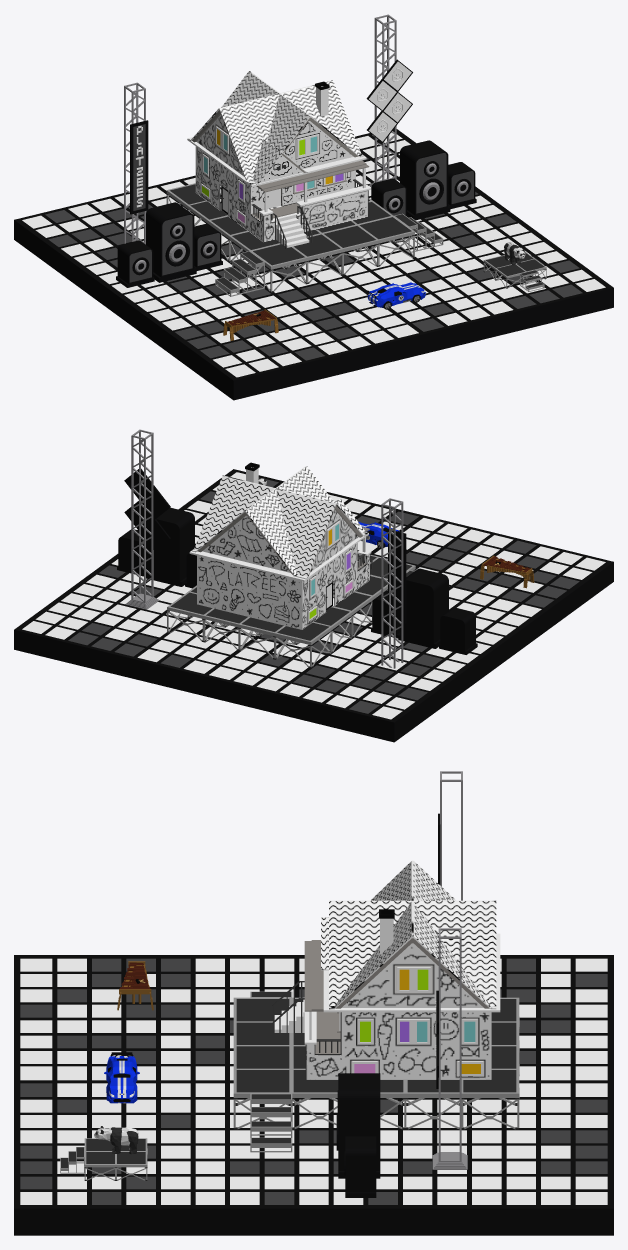
3 renders of one model, top to bottom at view 1: azimuth 30°, elevation 25°; view 2: azimuth 150°, elevation 25°; view 3: azimuth 270°, elevation 25°, orthographic. The views are drawn at different scales.
Visible parts, largest first — view 1: Cube.008, Cube.879, VEHICLES_RACING_CAR, OBJRANDOM_MARIMBA; view 2: Cube.008, Cube.879, OBJRANDOM_MARIMBA, VEHICLES_RACING_CAR; view 3: Cube.008, Cube.879, VEHICLES_RACING_CAR, OBJRANDOM_MARIMBA, ANIMAL_PANDA.
Part boxes in pixels (x1,y1,x2,y2): Cube.008: (14,14,613,400); Cube.879: (187,71,371,248); VEHICLES_RACING_CAR: (367,282,425,309); OBJRANDOM_MARIMBA: (223,309,278,340); Cube.008: (14,429,613,742); Cube.879: (189,462,372,629); OBJRANDOM_MARIMBA: (480,555,534,588); VEHICLES_RACING_CAR: (358,521,400,548); Cube.008: (14,771,613,1235); Cube.879: (272,860,500,1079); VEHICLES_RACING_CAR: (104,1052,139,1103); OBJRANDOM_MARIMBA: (117,961,153,1010); ANIMAL_PANDA: (94,1126,138,1154).
Size of the model in its own units: 4000 by 1980 by 4000.
Materials: 40 (8 with a texture image).
